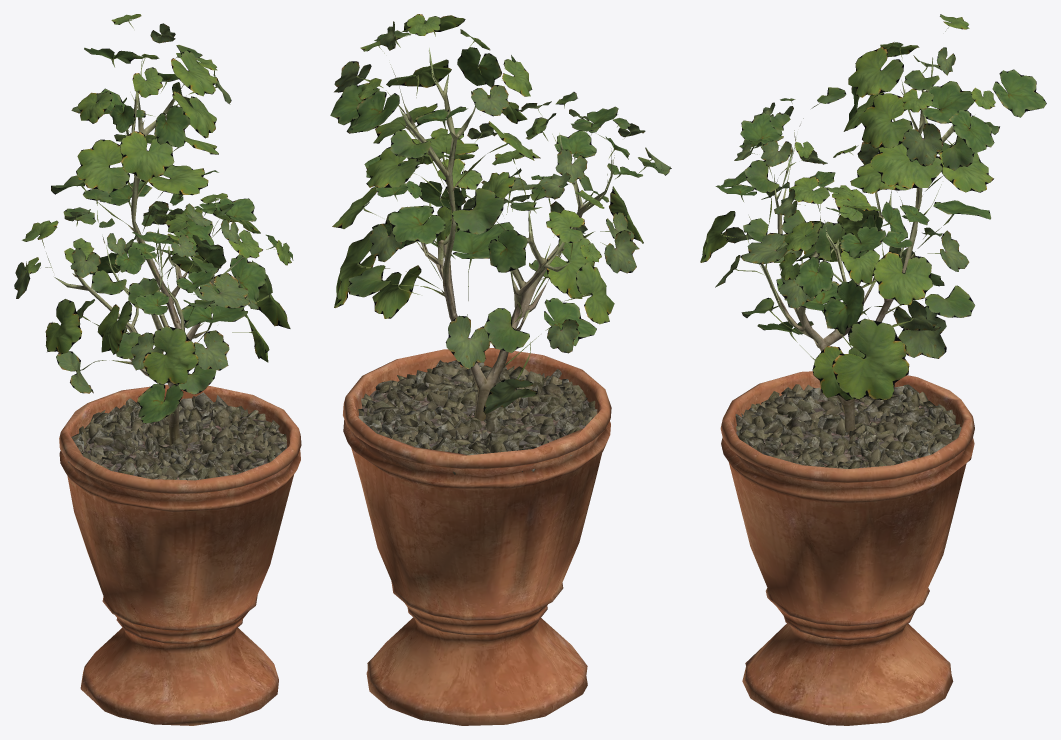
File: potted-plant-01-web.glb
The picture shows the model from 3 angles, left to right: view 1: azimuth 30°, elevation 25°; view 2: azimuth 150°, elevation 25°; view 3: azimuth 270°, elevation 25°; orthographic projection. The views are drawn at different scales.
Parts seen in each view (by area): view 1: potted_plant_01_pot, potted_plant_01_leaves, potted_plant_01_pebbles, potted_plant_01_stem; view 2: potted_plant_01_pot, potted_plant_01_leaves, potted_plant_01_pebbles, potted_plant_01_stem; view 3: potted_plant_01_pot, potted_plant_01_leaves, potted_plant_01_pebbles, potted_plant_01_stem.
Part boxes in pixels (x1,y1,x2,y2): potted_plant_01_pot: (59,384,301,725); potted_plant_01_leaves: (14,14,293,423); potted_plant_01_pebbles: (68,392,286,480); potted_plant_01_stem: (54,58,244,444); potted_plant_01_pot: (343,348,611,725); potted_plant_01_leaves: (330,14,671,414); potted_plant_01_pebbles: (358,360,597,474); potted_plant_01_stem: (399,48,612,420); potted_plant_01_pot: (720,371,974,725); potted_plant_01_leaves: (700,14,1046,400); potted_plant_01_pebbles: (735,384,961,468); potted_plant_01_stem: (760,57,966,434).
Size of the model in its own units: 0.5866 by 1.34 by 0.6336.
2 materials, 2 textured.
